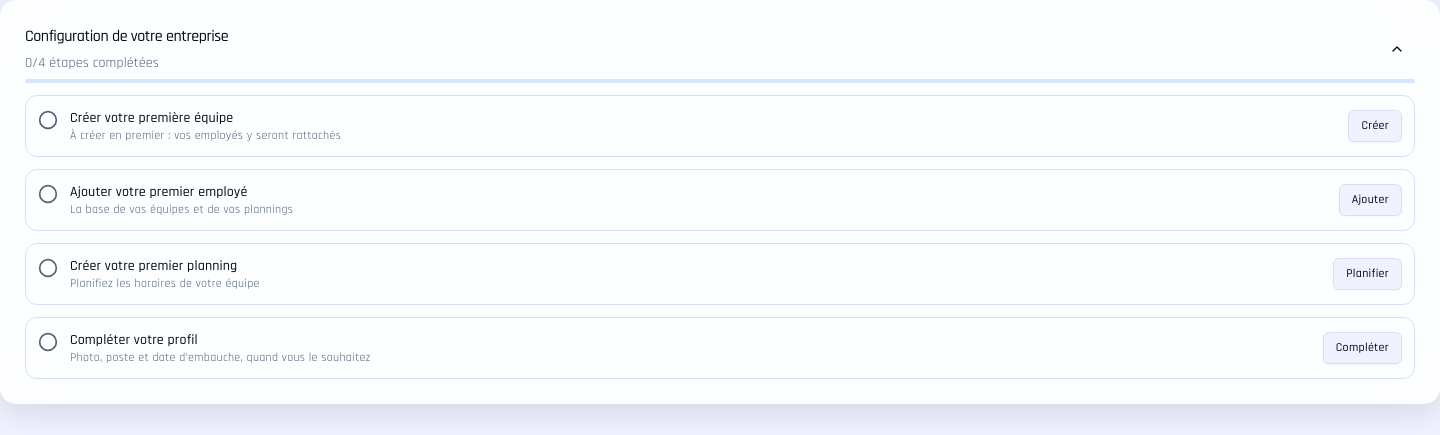
Test: OnboardingChecklist › proposes team creation as the first step
This screenshot has width=1440, height=435.
Click the button named "Réduire".
click(1397, 49)  # box [1379, 31, 1415, 67]
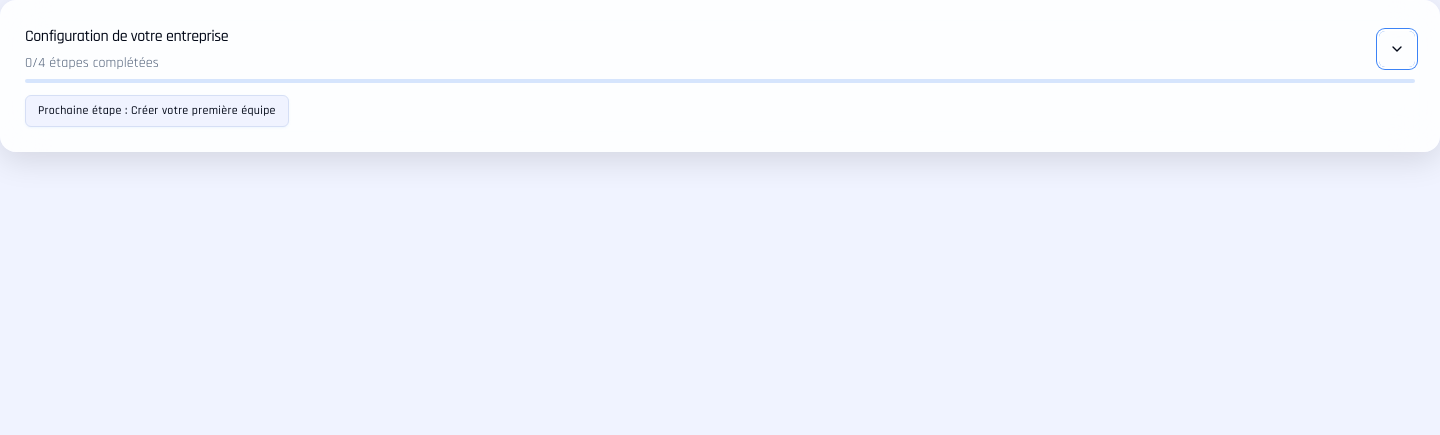
Check: the link "Prochaine étape : Créer votre première équipe" is shown, box [25, 95, 289, 127]
